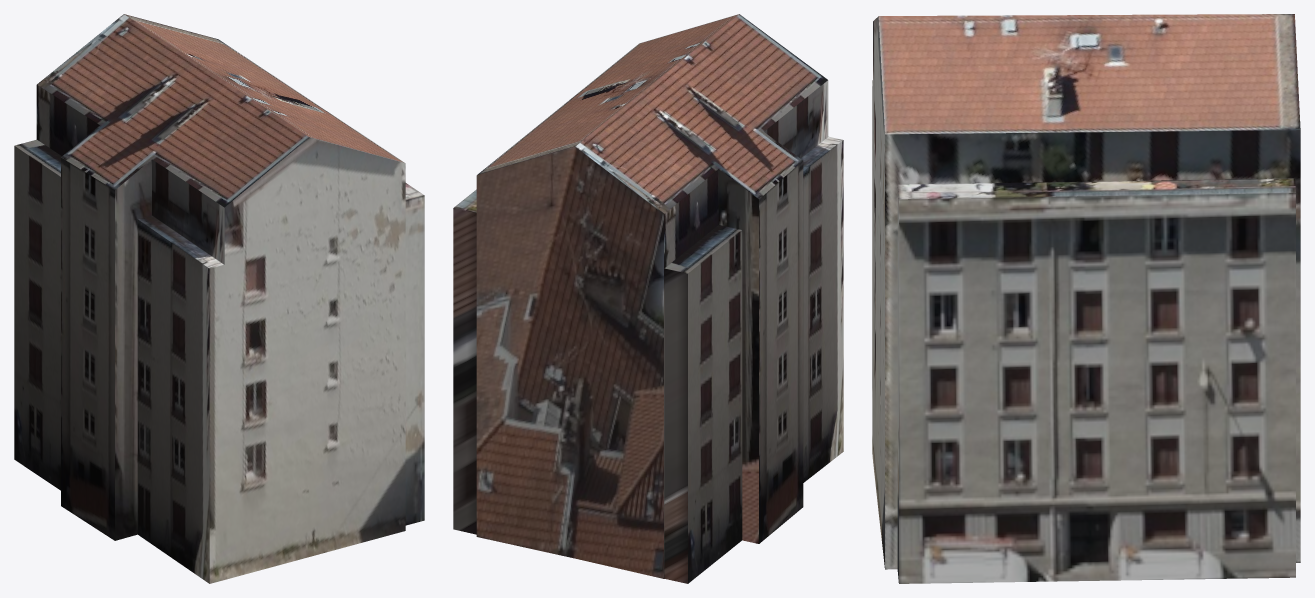
The picture shows the model from 3 angles, left to right: view 1: azimuth 30°, elevation 25°; view 2: azimuth 150°, elevation 25°; view 3: azimuth 270°, elevation 25°; orthographic projection. The views are drawn at different scales.
Parts seen in each view (by area): view 1: Z_UP; view 2: Z_UP; view 3: Z_UP.
Part boxes in pixels (x1,y1,x2,y2): Z_UP: (14,14,424,583); Z_UP: (453,14,843,583); Z_UP: (872,14,1300,583).
Bounding box in the file's own units: 13.57 × 21.1 × 16.49.
Materials: 2 (1 with a texture image).
